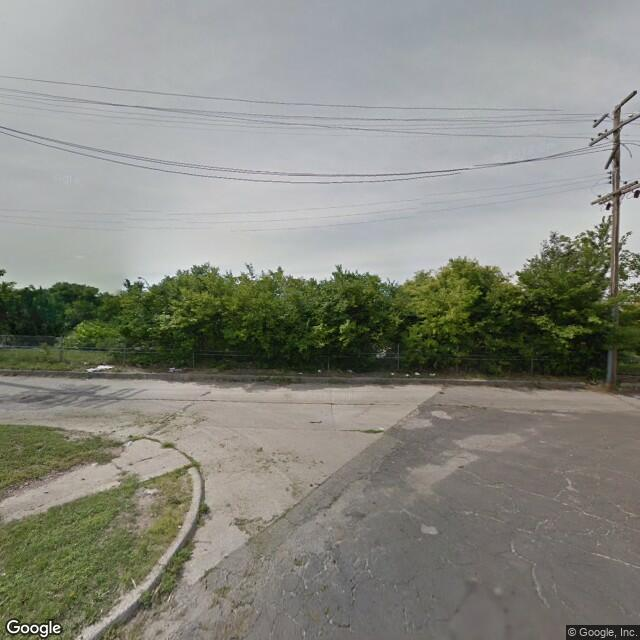litter: (389, 366, 440, 382), (78, 358, 119, 376), (162, 363, 192, 377), (297, 366, 325, 377), (344, 367, 357, 377)
